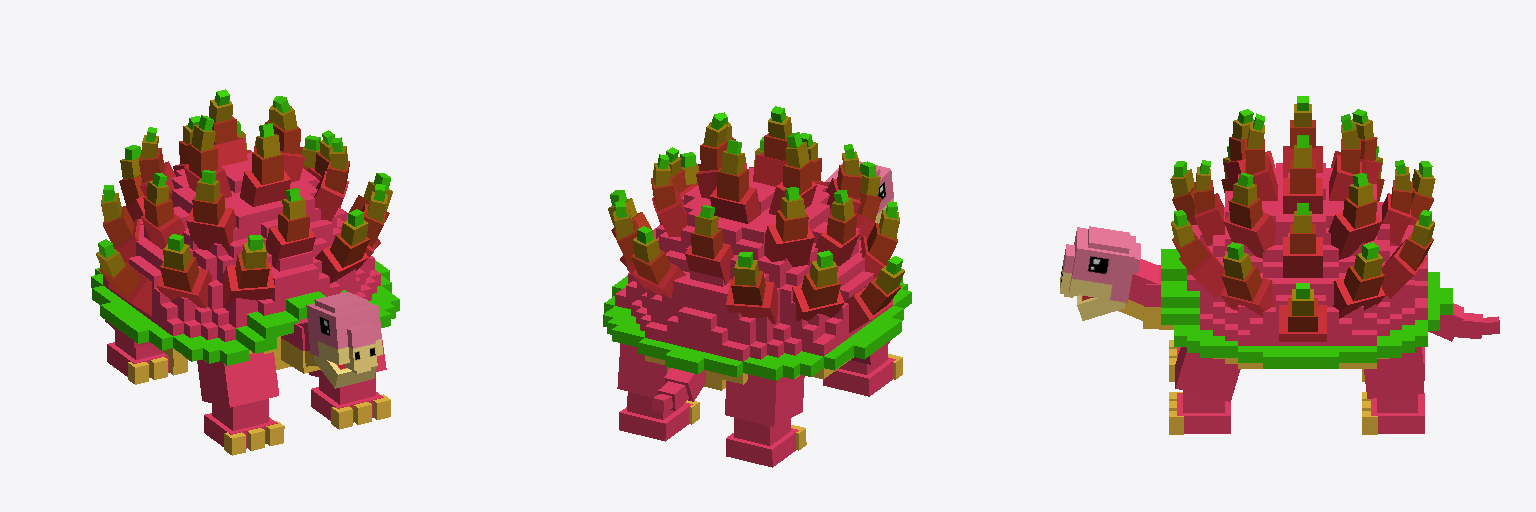
3 renders of one model, left to right at view 1: azimuth 30°, elevation 25°; view 2: azimuth 150°, elevation 25°; view 3: azimuth 270°, elevation 25°, orthographic.
Visible parts, largest first — view 1: Cube0061, Cube0041, Sphere0021, Cube0081, Cube0031, Cube0021, Cube0011; view 2: Cube0061, Sphere0021, Cube0041, Cube0081, Cube0031, Cube0011, Cube0021; view 3: Cube0061, Cube0041, Sphere0021, Cube0081, Cube0031, Cube0021, Cube0011.
Part boxes in pixels (left/top/right/bottom): Cube0061: left=103, top=152, right=386, bottom=448; Cube0041: left=108, top=137, right=380, bottom=315; Sphere0021: left=91, top=89, right=399, bottom=365; Cube0081: left=99, top=116, right=389, bottom=297; Cube0031: left=96, top=99, right=392, bottom=277; Cube0021: left=306, top=292, right=382, bottom=388; Cube0011: left=128, top=336, right=390, bottom=455; Cube0061: left=615, top=168, right=895, bottom=467; Sphere0021: left=603, top=106, right=911, bottom=380; Cube0041: left=620, top=154, right=892, bottom=332; Cube0081: left=611, top=133, right=901, bottom=314; Cube0031: left=608, top=116, right=904, bottom=294; Cube0011: left=645, top=354, right=902, bottom=450; Cube0021: left=825, top=161, right=893, bottom=223; Cube0061: left=1128, top=163, right=1499, bottom=433; Cube0041: left=1179, top=146, right=1426, bottom=341; Sphere0021: left=1161, top=96, right=1452, bottom=368; Cube0081: left=1172, top=120, right=1433, bottom=331; Cube0031: left=1170, top=104, right=1435, bottom=315; Cube0021: left=1060, top=226, right=1140, bottom=320; Cube0011: left=1118, top=299, right=1389, bottom=434.
Bounding box in the file's own units: 8.22 × 7.66 × 10.92.
Materials: 7 (1 with a texture image).